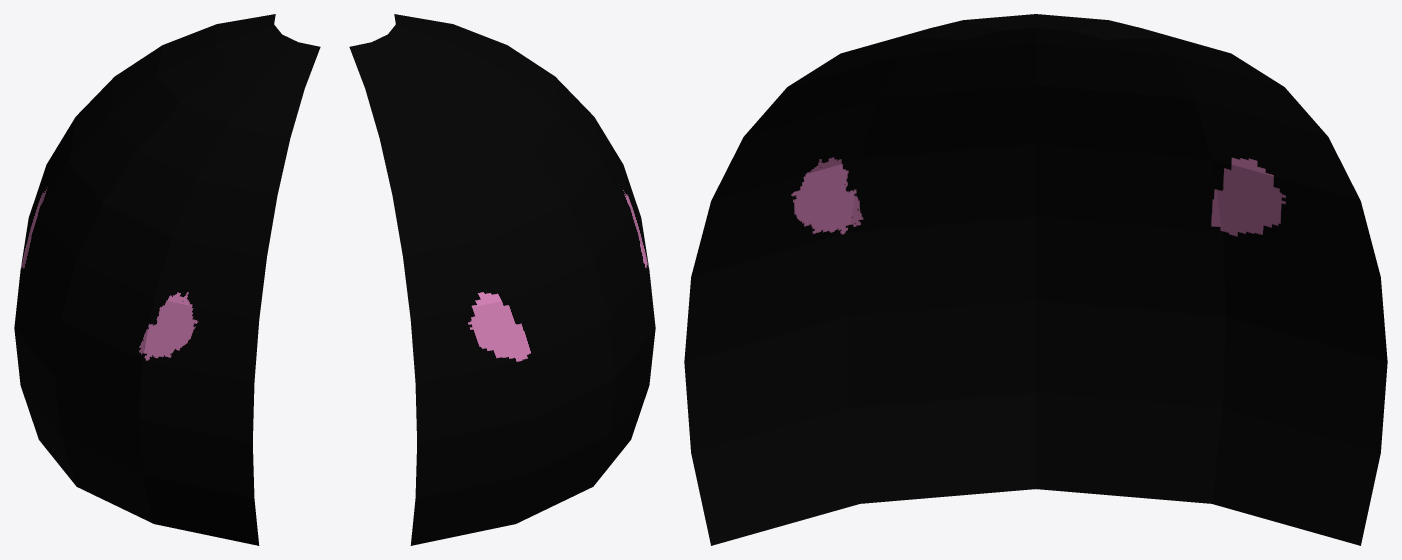
The model's file is bluey_face_uv-fix.fbx.
3 renders of one model, left to right at view 1: azimuth 30°, elevation 25°; view 2: azimuth 150°, elevation 25°; view 3: azimuth 270°, elevation 25°, orthographic. The views are drawn at different scales.
Parts seen in each view (by area): view 1: Sphere; view 2: Sphere; view 3: Sphere.
Part boxes in pixels (box(x1,y1,x2,y2)): Sphere: box(14, 14, 320, 545); Sphere: box(349, 14, 655, 545); Sphere: box(684, 14, 1387, 545).
Size of the model in its own units: 86.21 by 136 by 141.
